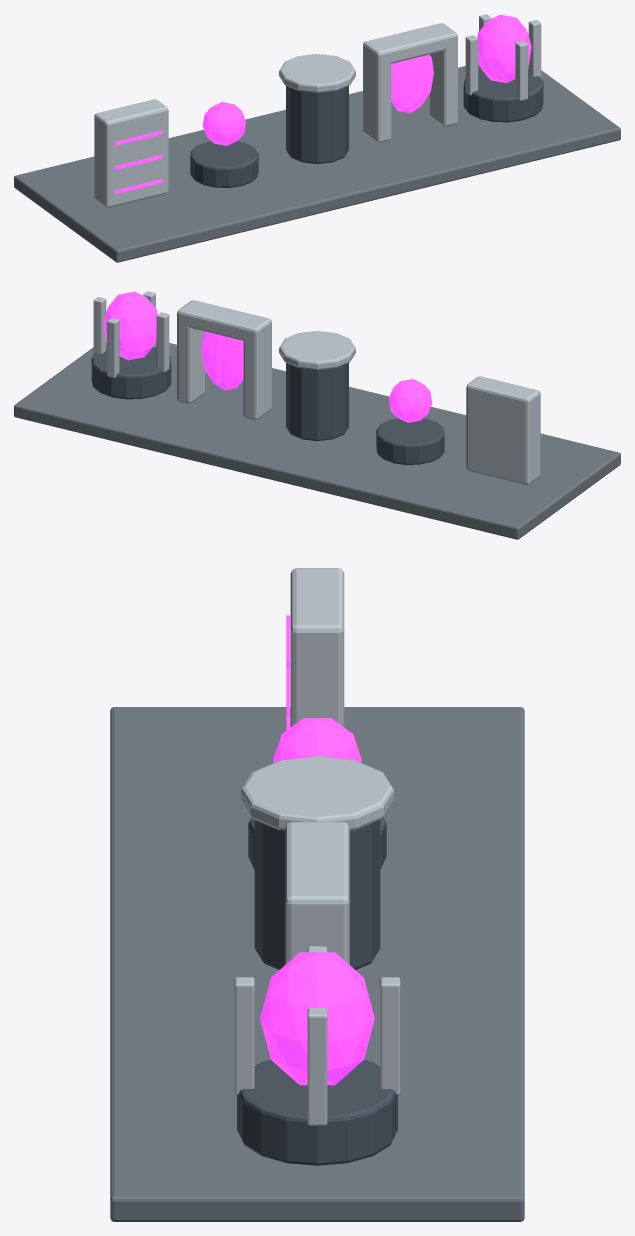
Rendered from Central_Core_Asset_Roster.glb.
3 renders of one model, top to bottom at view 1: azimuth 30°, elevation 25°; view 2: azimuth 150°, elevation 25°; view 3: azimuth 270°, elevation 25°, orthographic. The views are drawn at different scales.
Visible parts, largest first — view 1: Display_Plinth, HighTech_Wall, Energy_Generator, Central_Core_Base, Hologram_Dais, Central_Core, Portal_Frame_Top, Generator_Top, Portal_Frame_L, Portal_Field, Portal_Frame_R, Core_Hologram (+3 smaller); view 2: Display_Plinth, HighTech_Wall, Energy_Generator, Central_Core_Base, Hologram_Dais, Central_Core, Portal_Frame_Top, Generator_Top, Portal_Frame_L, Portal_Frame_R, Portal_Field, Core_Hologram (+3 smaller); view 3: Display_Plinth, Central_Core_Base, Central_Core, Generator_Top, Energy_Generator, HighTech_Wall, Portal_Frame_Top, Core_Hologram, Portal_Frame_R, Core_Pylon_0, Core_Pylon_1, Core_Pylon_3.
Boxes of the visible parts, left/top/right/bottom form: Display_Plinth: left=14, top=63, right=620, bottom=262; HighTech_Wall: left=94, top=99, right=168, bottom=207; Energy_Generator: left=286, top=86, right=348, bottom=163; Central_Core_Base: left=463, top=69, right=543, bottom=122; Hologram_Dais: left=190, top=141, right=258, bottom=187; Central_Core: left=477, top=14, right=531, bottom=83; Portal_Frame_Top: left=363, top=23, right=457, bottom=64; Generator_Top: left=279, top=54, right=355, bottom=92; Portal_Frame_L: left=363, top=50, right=391, bottom=142; Portal_Field: left=391, top=54, right=433, bottom=113; Portal_Frame_R: left=429, top=41, right=457, bottom=126; Core_Hologram: left=202, top=102, right=246, bottom=145; Display_Plinth: left=14, top=340, right=620, bottom=539; HighTech_Wall: left=466, top=376, right=540, bottom=484; Energy_Generator: left=286, top=363, right=348, bottom=440; Central_Core_Base: left=91, top=346, right=171, bottom=399; Hologram_Dais: left=376, top=418, right=444, bottom=464; Central_Core: left=103, top=291, right=157, bottom=360; Portal_Frame_Top: left=177, top=300, right=271, bottom=341; Generator_Top: left=279, top=331, right=355, bottom=369; Portal_Frame_L: left=243, top=327, right=271, bottom=419; Portal_Frame_R: left=177, top=318, right=205, bottom=403; Portal_Field: left=201, top=331, right=243, bottom=390; Core_Hologram: left=388, top=379, right=432, bottom=422; Display_Plinth: left=110, top=707, right=524, bottom=1221; Central_Core_Base: left=237, top=1060, right=397, bottom=1165; Central_Core: left=260, top=952, right=374, bottom=1085; Generator_Top: left=240, top=756, right=394, bottom=830; Energy_Generator: left=254, top=820, right=380, bottom=969; HighTech_Wall: left=290, top=568, right=344, bottom=726; Portal_Frame_Top: left=285, top=822, right=349, bottom=923; Core_Hologram: left=273, top=718, right=361, bottom=762; Portal_Frame_R: left=285, top=912, right=349, bottom=964; Core_Pylon_0: left=307, top=1008, right=327, bottom=1125; Core_Pylon_1: left=380, top=977, right=400, bottom=1094; Core_Pylon_3: left=234, top=977, right=254, bottom=1094.
Size of the model in its own units: 15.2 by 3 by 5.4.
